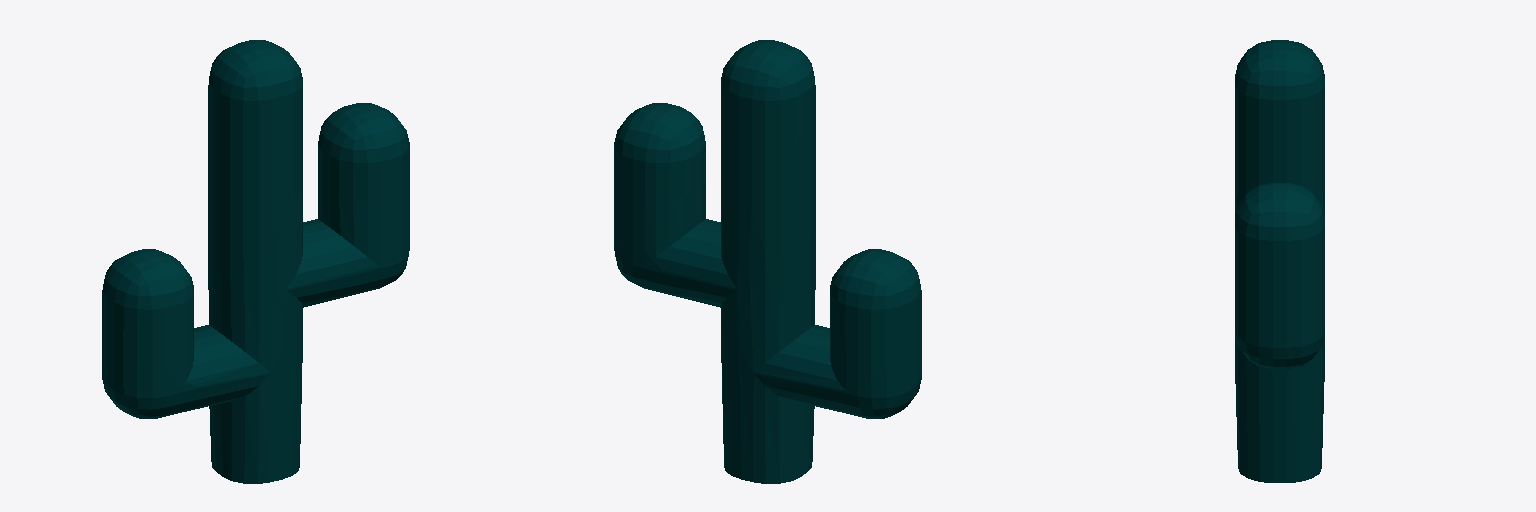
File: tree_desert.obj
3 views of the same model, side by side, from view 1: azimuth 30°, elevation 25°; view 2: azimuth 150°, elevation 25°; view 3: azimuth 270°, elevation 25° (orthographic).
Parts seen in each view (by area): view 1: tree_desert:Mesh; view 2: tree_desert:Mesh; view 3: tree_desert:Mesh.
Boxes of the visible parts, box(x1,y1,x2,y2) form: tree_desert:Mesh: box(102, 40, 409, 483); tree_desert:Mesh: box(614, 40, 921, 483); tree_desert:Mesh: box(1235, 40, 1324, 482).
Size of the model in its own units: 2.04 by 2.8 by 0.5512.